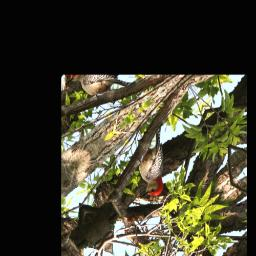Woodpecker: (115, 124, 192, 208)
